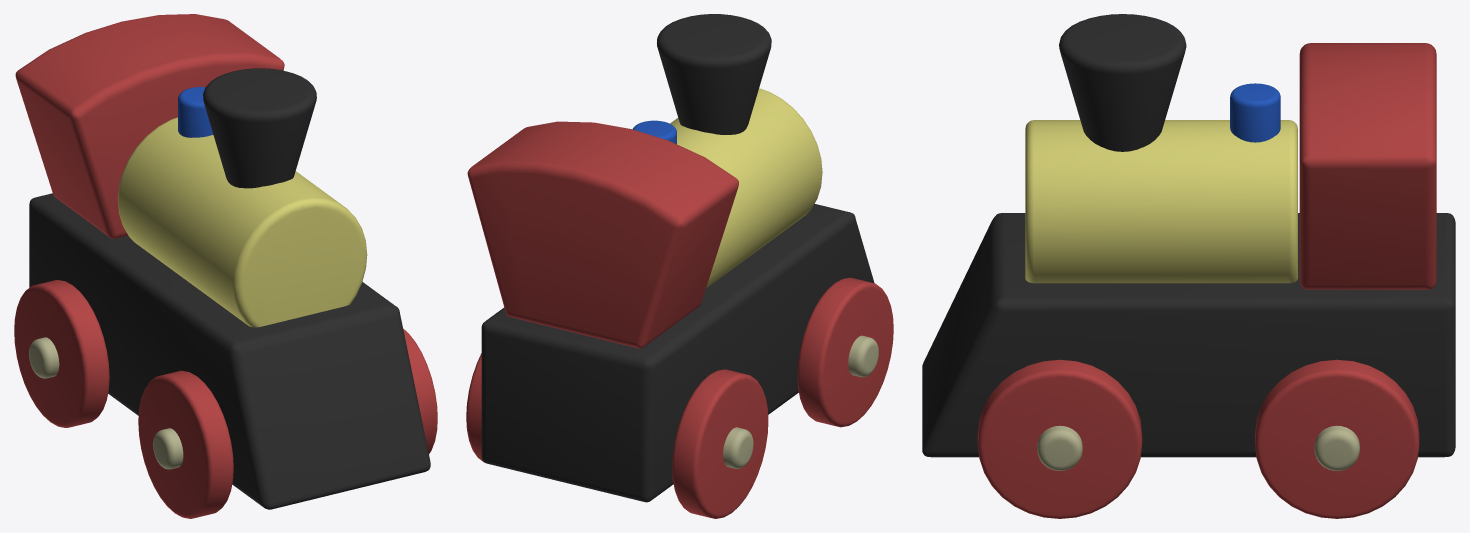
Rendered from toy-train.fbx.
The picture shows the model from 3 angles, left to right: view 1: azimuth 30°, elevation 25°; view 2: azimuth 150°, elevation 25°; view 3: azimuth 270°, elevation 25°; orthographic projection. The views are drawn at different scales.
Visible parts, largest first — view 1: Body, Yellow Cylinder, Back Cube, Wheels, Chuchu, Wheel Chromes, Blue Cylinder; view 2: Body, Back Cube, Wheels, Yellow Cylinder, Chuchu, Wheel Chromes, Blue Cylinder; view 3: Body, Yellow Cylinder, Wheels, Back Cube, Chuchu, Wheel Chromes, Blue Cylinder.
Part boxes in pixels (x1=…): Body: x1=29, y1=193, x2=430, y2=509; Yellow Cylinder: x1=117, y1=117, x2=367, y2=327; Back Cube: x1=15, y1=14, x2=284, y2=238; Wheels: x1=14, y1=280, x2=437, y2=518; Chuchu: x1=203, y1=68, x2=316, y2=188; Wheel Chromes: x1=29, y1=337, x2=183, y2=469; Blue Cylinder: x1=178, y1=87, x2=213, y2=137; Body: x1=481, y1=204, x2=874, y2=502; Back Cube: x1=467, y1=121, x2=738, y2=348; Wheels: x1=466, y1=277, x2=893, y2=518; Yellow Cylinder: x1=670, y1=88, x2=822, y2=287; Chuchu: x1=657, y1=14, x2=771, y2=134; Wheel Chromes: x1=723, y1=335, x2=878, y2=468; Blue Cylinder: x1=633, y1=120, x2=676, y2=144; Body: x1=922, y1=213, x2=1455, y2=457; Yellow Cylinder: x1=1025, y1=120, x2=1297, y2=283; Wheels: x1=977, y1=359, x2=1419, y2=518; Back Cube: x1=1299, y1=43, x2=1436, y2=289; Chuchu: x1=1059, y1=14, x2=1186, y2=151; Wheel Chromes: x1=1037, y1=425, x2=1359, y2=470; Blue Cylinder: x1=1230, y1=83, x2=1280, y2=142.
Bounding box in the file's own units: 3 × 4.23 × 4.87.
